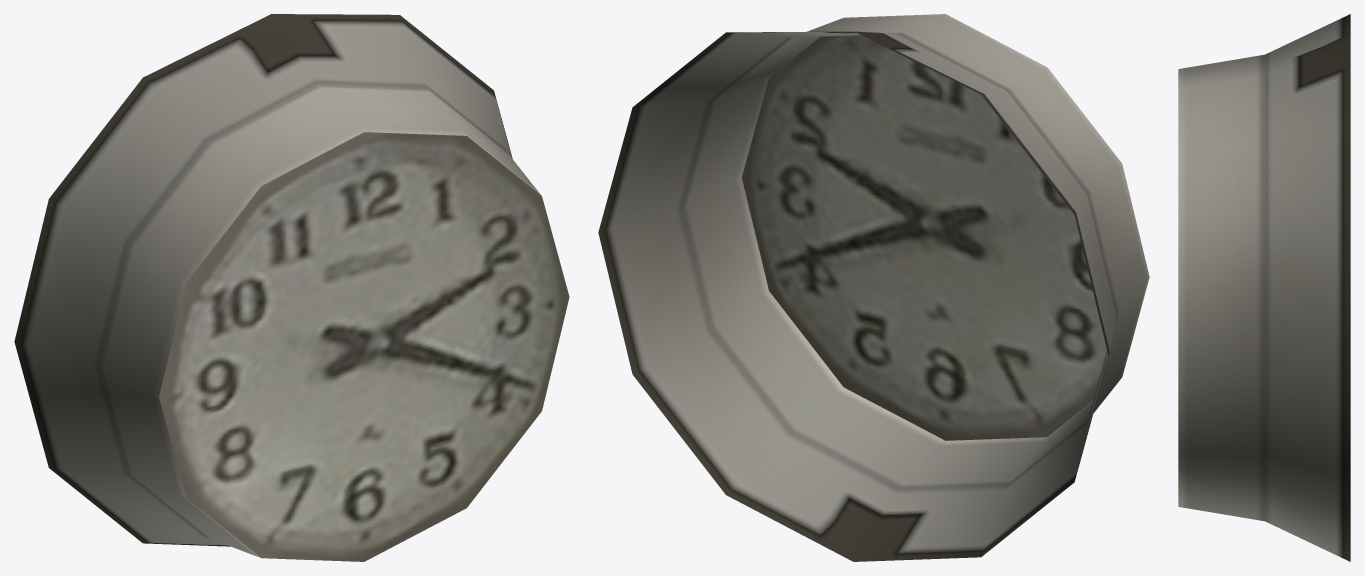
The model's file is Clock.FBX.
3 views of the same model, side by side, from view 1: azimuth 30°, elevation 25°; view 2: azimuth 150°, elevation 25°; view 3: azimuth 270°, elevation 25° (orthographic). The views are drawn at different scales.
Parts seen in each view (by area): view 1: Clock; view 2: Clock; view 3: Clock.
Boxes of the visible parts, bbox=[...] form: Clock: bbox=[14, 14, 569, 561]; Clock: bbox=[598, 14, 1149, 561]; Clock: bbox=[1178, 14, 1350, 561].
Bounding box in the file's own units: 0.3041 × 0.3019 × 0.0951.
